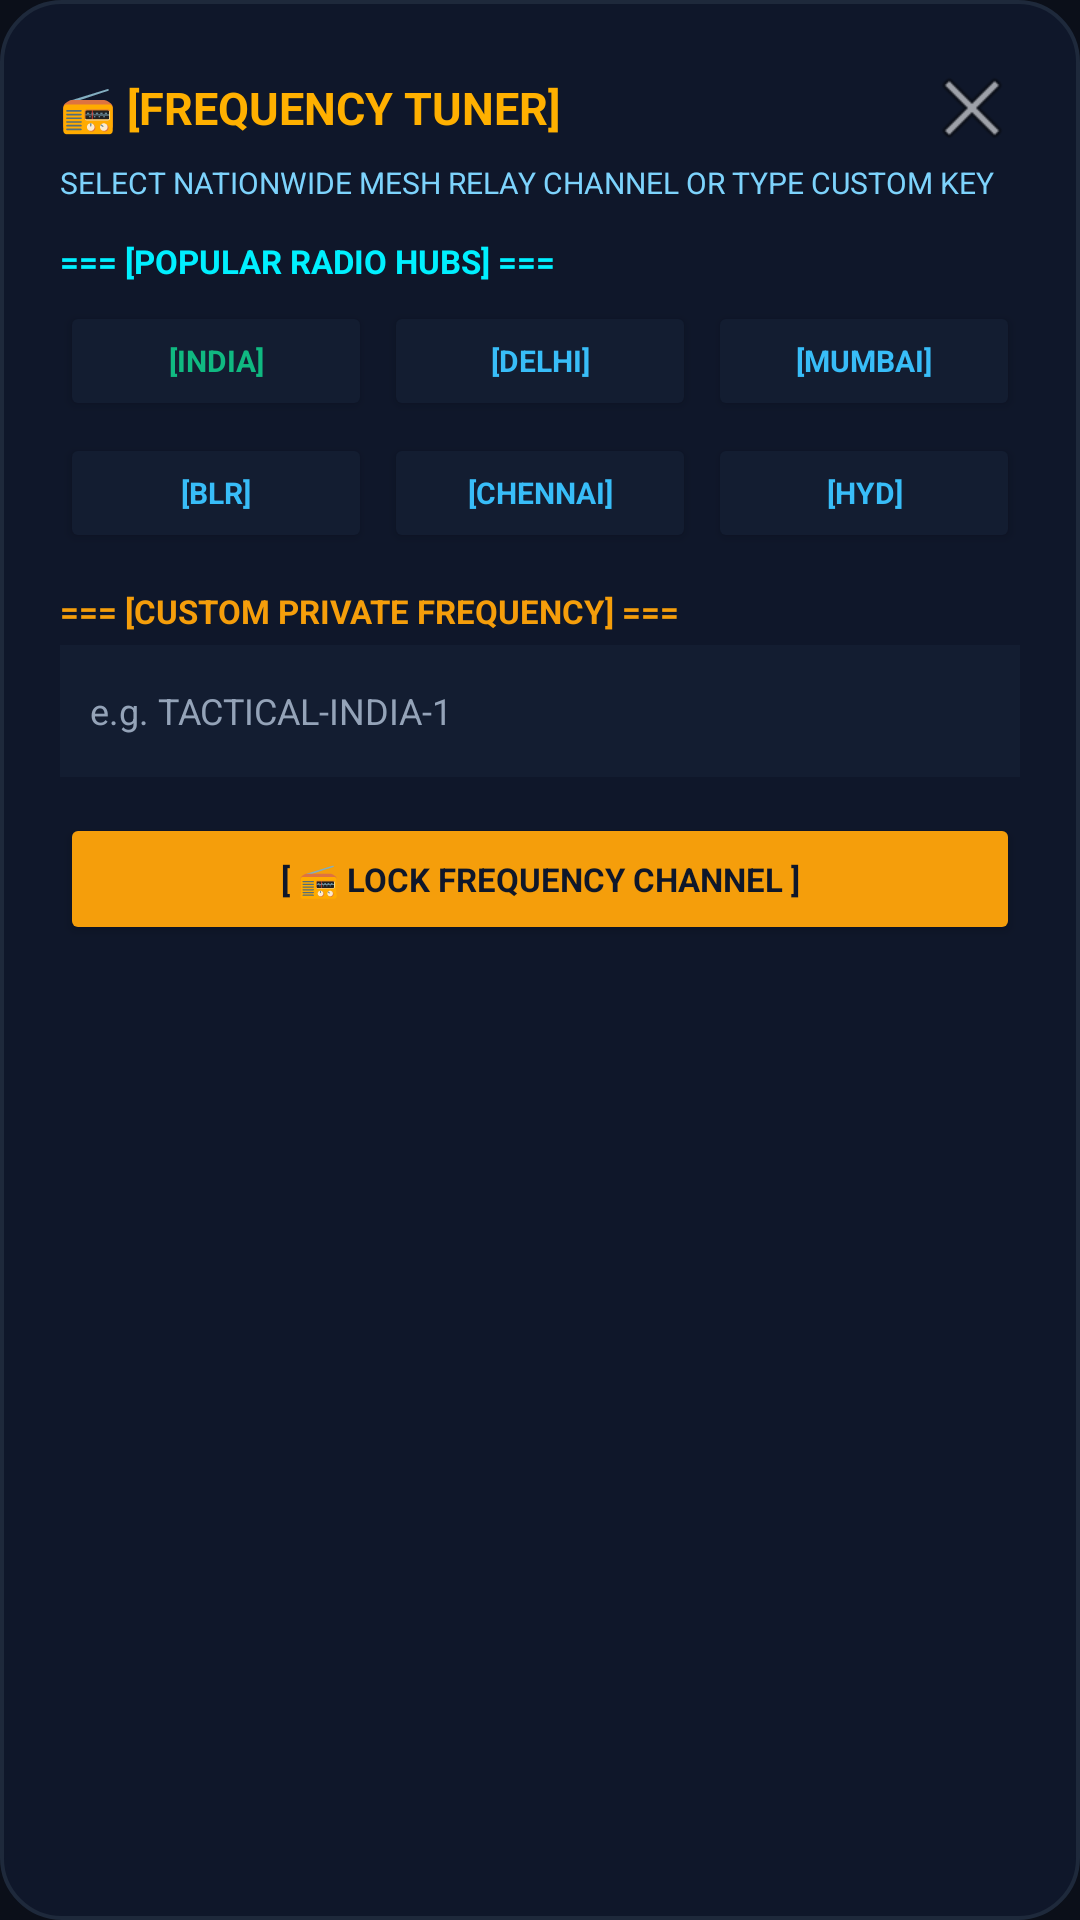

Named icons in this screenshot (1080 × 1920) and their bounding boxes, (x1, y1, x2, y2):
Close: (945, 81, 999, 135)
